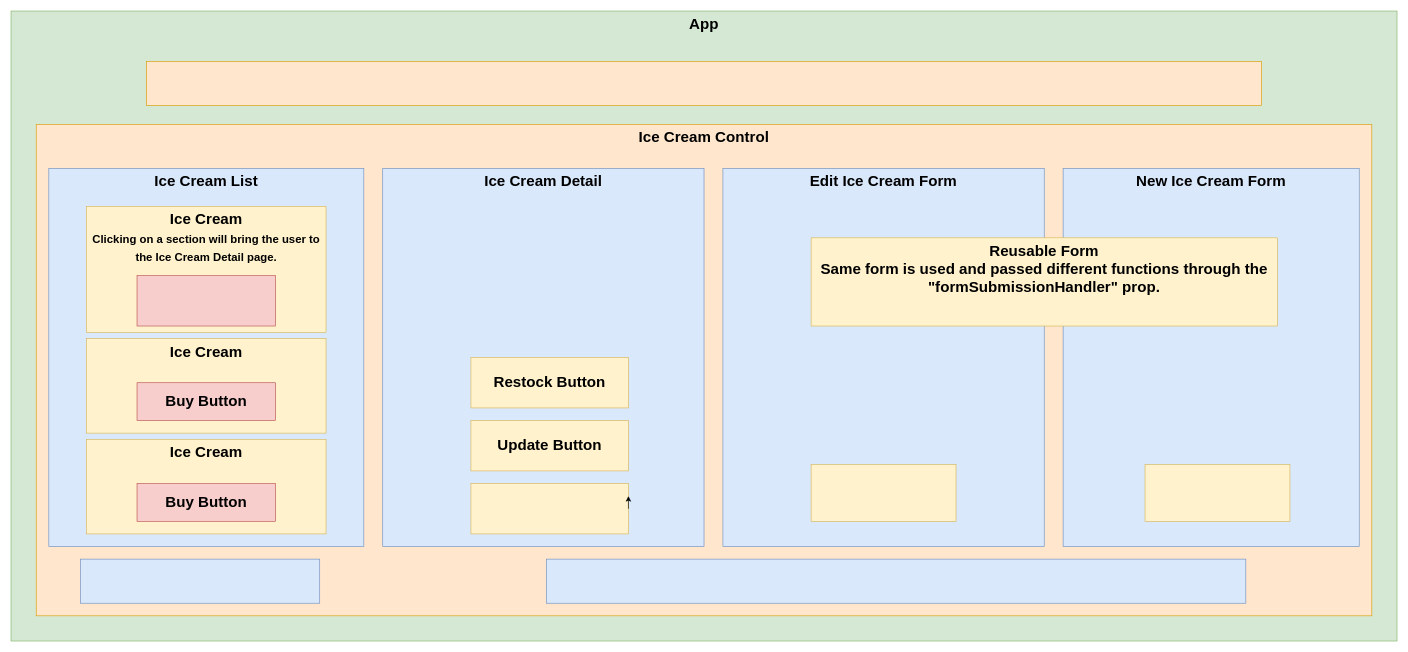
The diagram is 1408 pixels wide and 652 high, and some of its shapes have lost their labels. Here are the shapes that lost their labels. From the top down, the centre of each, then its label:
[704,83]: Header
[206,300]: Buy Button Decreases quantity
[549,508]: Delete Button - to Edit Form
[883,492]: Confirm Update Button
[1217,492]: Submit Button Add Ice Cream and show list
[200,580]: Add Ice Cream Button - to New Ice Cream Form
[896,580]: Ice Cream List Button - shows Ice Cream List
